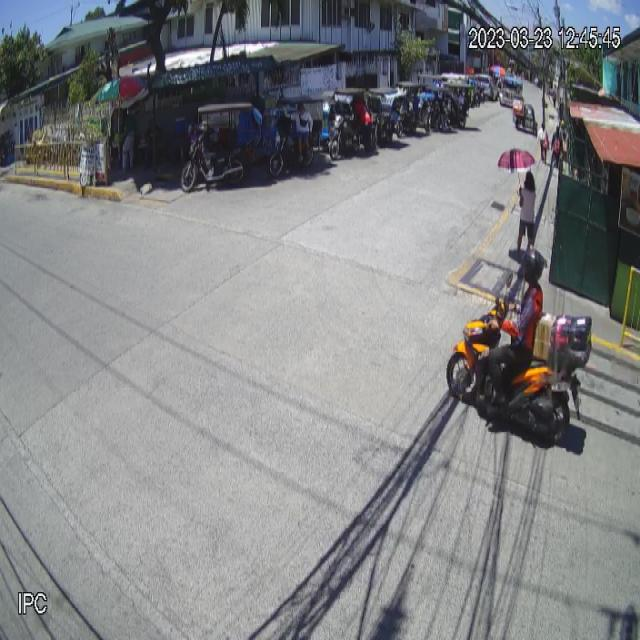Motorcycle: (445, 290, 595, 449)
